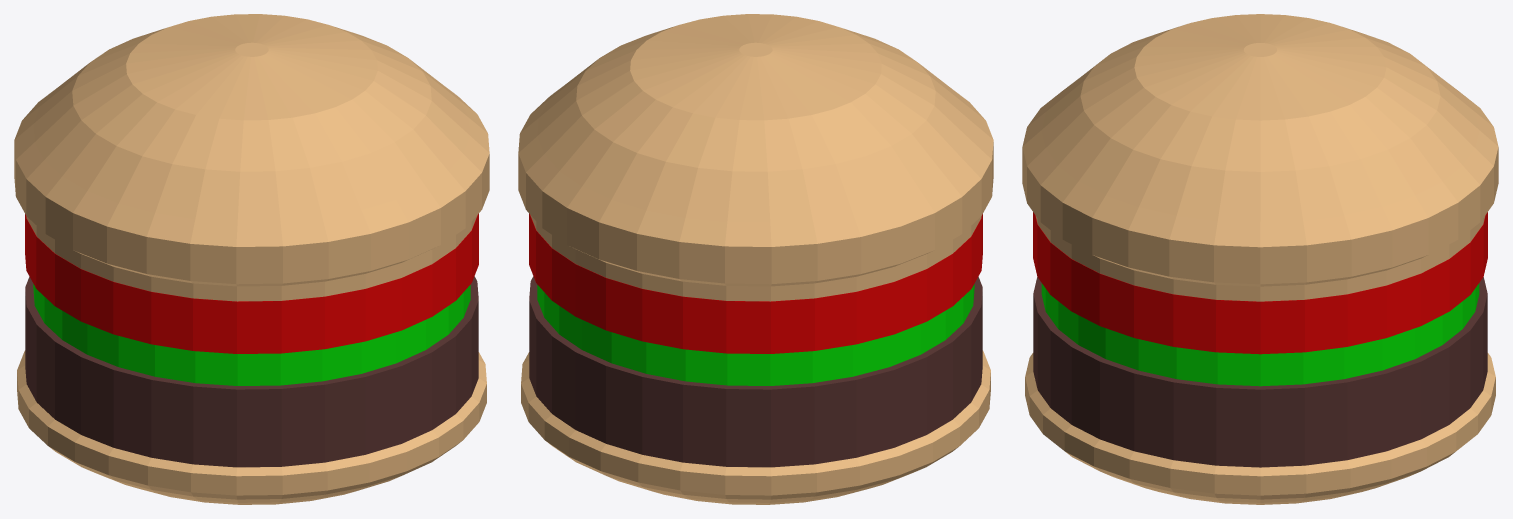
Rendered from Burger.fbx.
3 views of the same model, side by side, from view 1: azimuth 30°, elevation 25°; view 2: azimuth 150°, elevation 25°; view 3: azimuth 270°, elevation 25° (orthographic).
Visible parts, largest first — view 1: Patty Top, Meat, Tomato, Patty Bottom.001, Lettuce; view 2: Patty Top, Meat, Tomato, Patty Bottom.001, Lettuce; view 3: Patty Top, Meat, Tomato, Patty Bottom.001, Lettuce.
Boxes of the visible parts, bbox=[...] form: Patty Top: bbox=[14, 14, 489, 301]; Meat: bbox=[25, 276, 478, 467]; Tomato: bbox=[25, 213, 478, 353]; Patty Bottom.001: bbox=[17, 350, 486, 504]; Lettuce: bbox=[33, 284, 470, 385]; Patty Top: bbox=[518, 14, 993, 301]; Meat: bbox=[529, 276, 982, 467]; Tomato: bbox=[529, 213, 982, 353]; Patty Bottom.001: bbox=[521, 350, 990, 504]; Lettuce: bbox=[537, 284, 974, 385]; Patty Top: bbox=[1022, 14, 1498, 301]; Meat: bbox=[1033, 277, 1487, 467]; Tomato: bbox=[1033, 212, 1487, 354]; Patty Bottom.001: bbox=[1025, 353, 1495, 504]; Lettuce: bbox=[1041, 283, 1479, 386].
Size of the model in its own units: 407 by 361 by 407.
